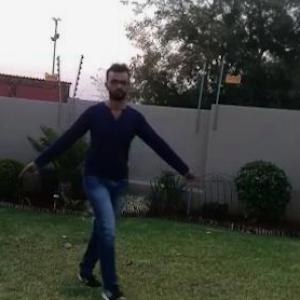land: (21, 63, 193, 296)
